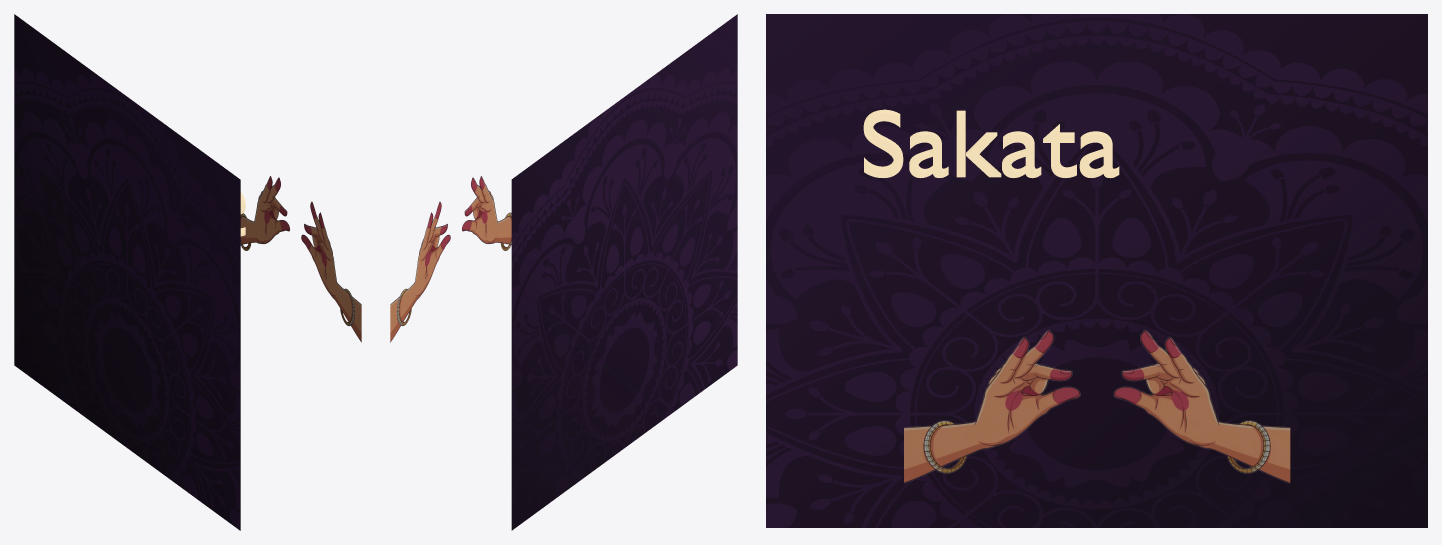
File: Sakata.glb
The picture shows the model from 3 angles, left to right: view 1: azimuth 30°, elevation 25°; view 2: azimuth 150°, elevation 25°; view 3: azimuth 270°, elevation 25°; orthographic projection. The views are drawn at different scales.
Visible parts, largest first — view 1: Plane.010, Anjali.010; view 2: Plane.010, Anjali.010; view 3: Plane.010, Anjali.010, Text.032.
Boxes of the visible parts, bbox=[...] form: Plane.010: bbox=[14, 14, 240, 530]; Anjali.010: bbox=[240, 176, 361, 342]; Plane.010: bbox=[511, 14, 737, 530]; Anjali.010: bbox=[390, 176, 511, 342]; Plane.010: bbox=[766, 14, 1427, 527]; Anjali.010: bbox=[904, 330, 1290, 483]; Text.032: bbox=[863, 109, 1119, 178].
Bounding box in the file's own units: 1.53 × 3.05 × 3.56.
3 materials, 2 textured.
